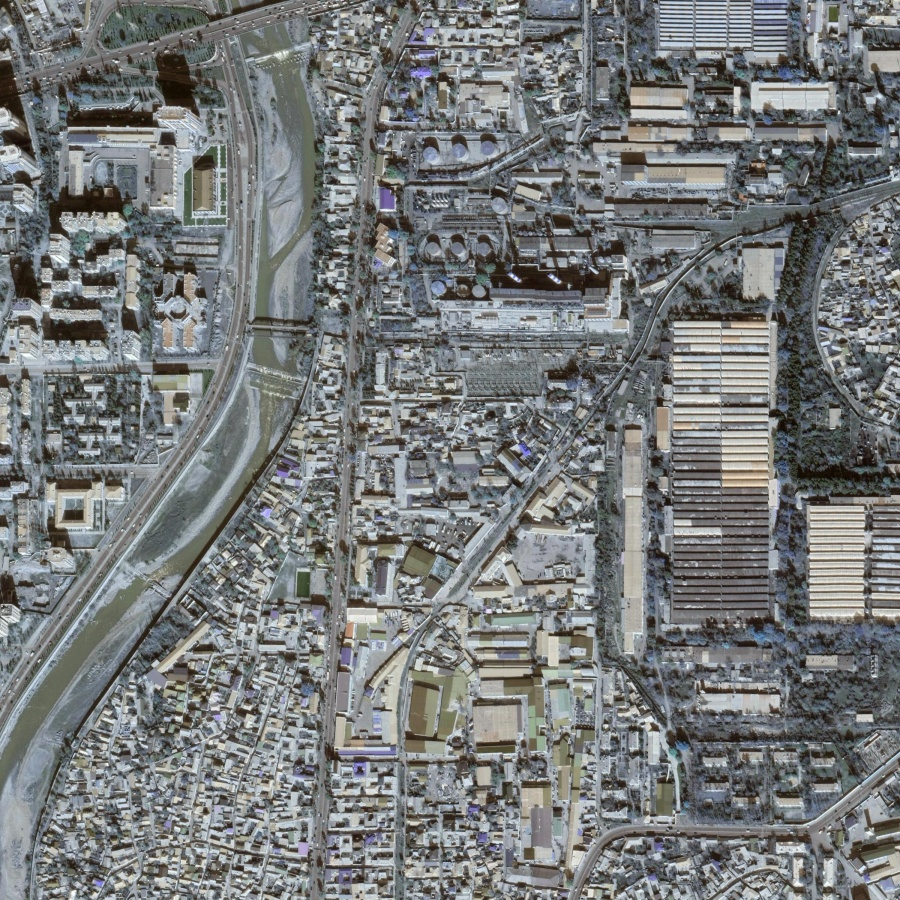PowerPlant: (413, 187, 634, 398)
